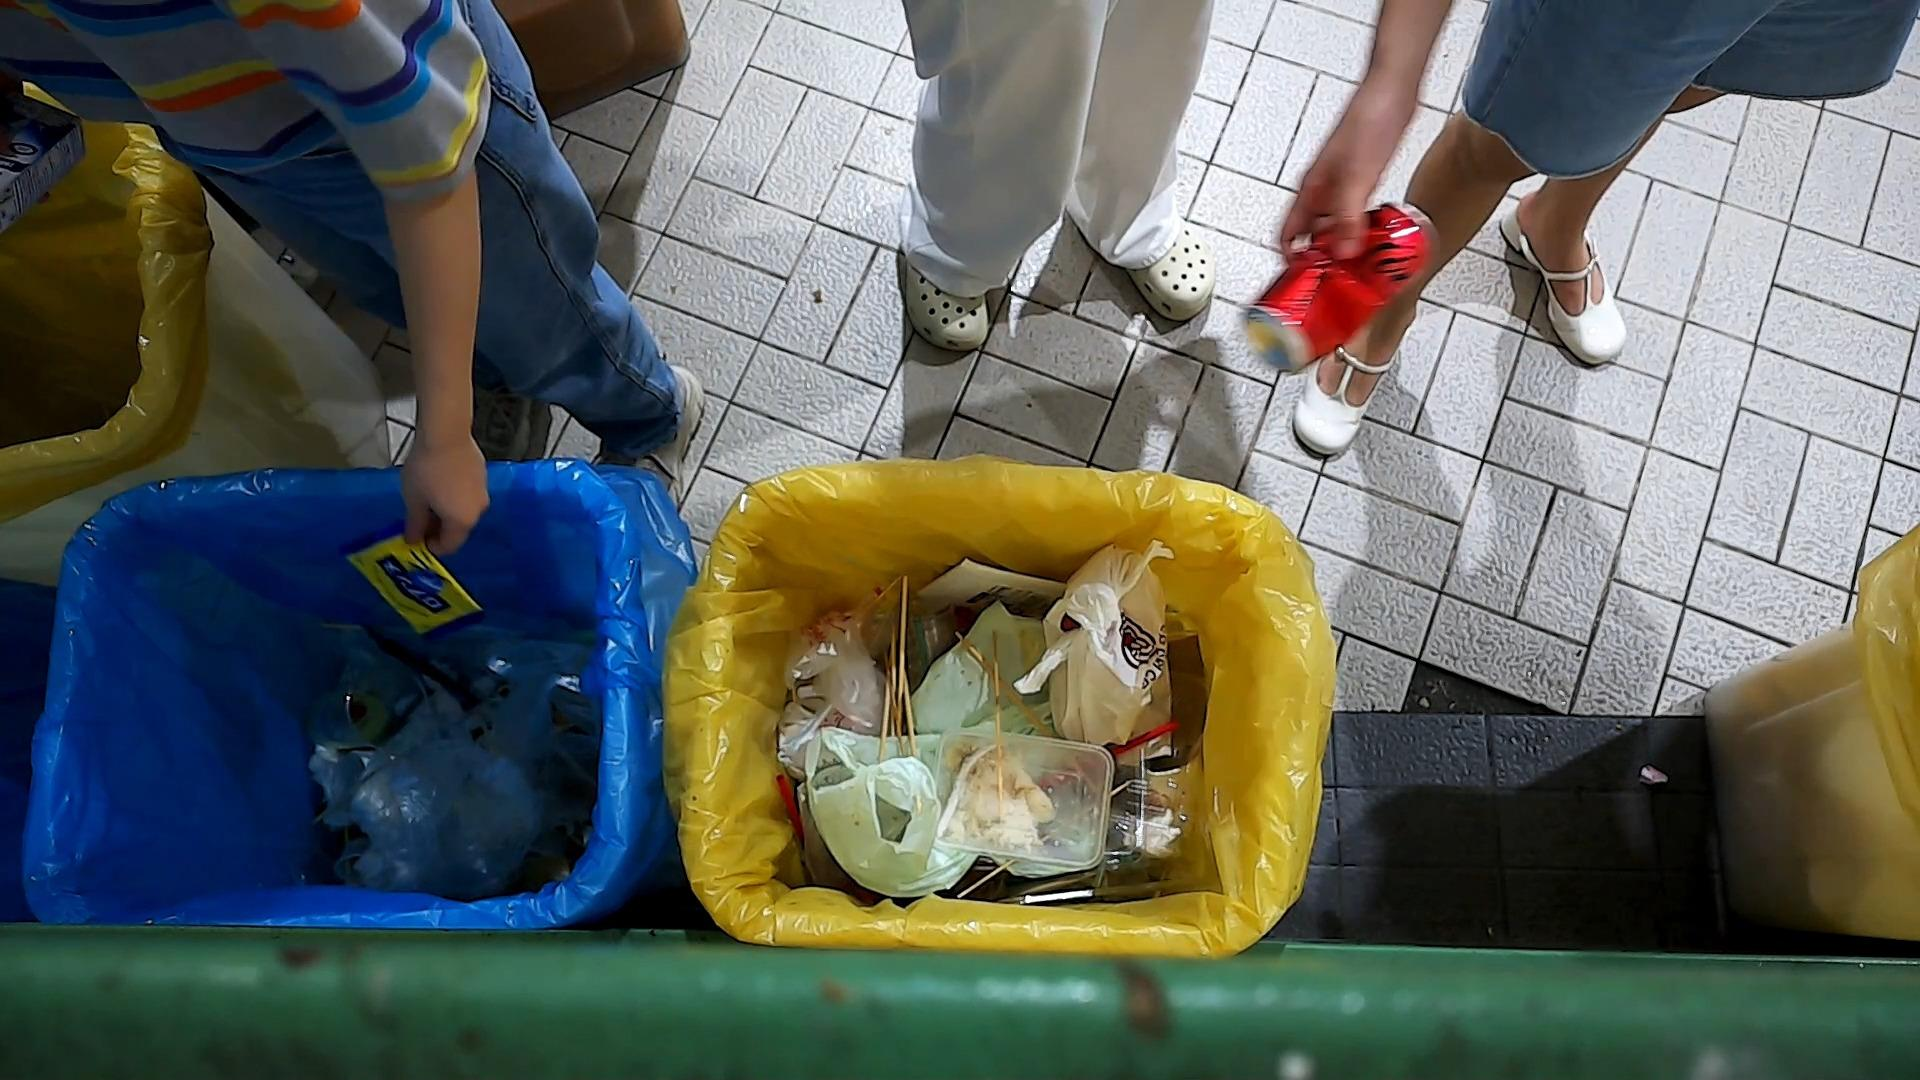can: (1233, 196, 1447, 381)
dirty food container: (935, 727, 1118, 874)
filled plastic bag: (1011, 538, 1182, 760), (802, 707, 989, 903)
milk carton: (0, 92, 92, 244)
plastic bag: (344, 654, 564, 906), (775, 597, 885, 748)
plastic cup: (305, 647, 429, 752)
snack packaging: (338, 518, 489, 644), (352, 613, 493, 720)
sticks: (956, 777, 1134, 901), (952, 628, 1054, 738), (305, 753, 398, 831), (903, 667, 924, 823), (989, 628, 1005, 816), (878, 621, 897, 765), (895, 571, 911, 736)
straw: (1109, 717, 1185, 760), (773, 773, 807, 855)
